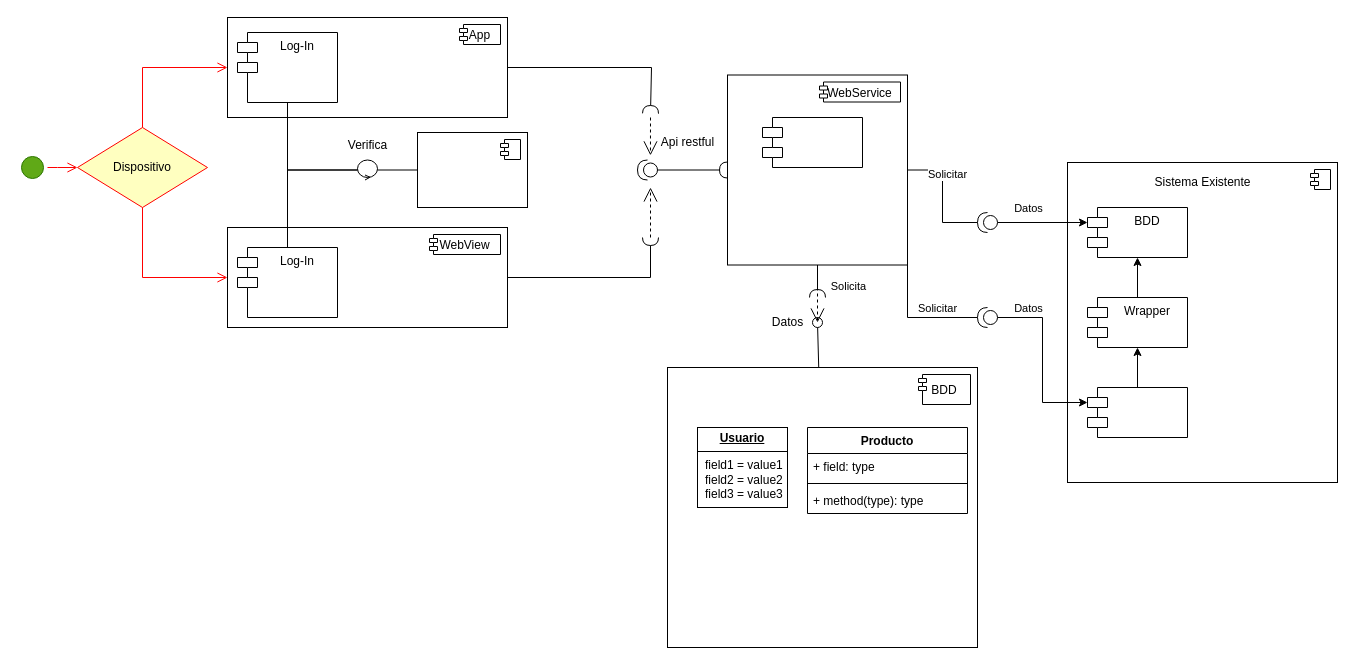
This 1355x665 diagram has some shape labels left out. The shapes that lost their labels are listed below. From the top down, each one's box as (x1, y1, x2, y2) in pixels, then its label:
(762, 116, 862, 168): Crud
(416, 132, 528, 208): Seguridad
(1086, 386, 1188, 438): Service Web
